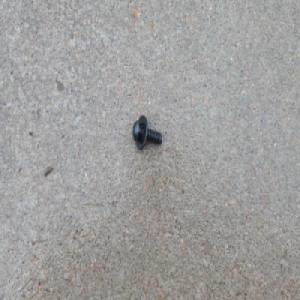BoltWasher: (131, 115, 161, 151)
